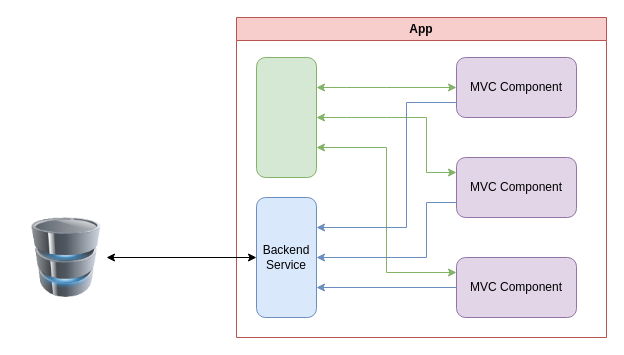
Some shapes in this 624 by 355 pixel diagram are drawn without their labels. The box of each missing label's shape, as (x1, y1, x2, y2) in pixels:
Firebase-Firestore: (26, 217, 106, 297)
Navigation Service: (256, 56, 316, 178)
